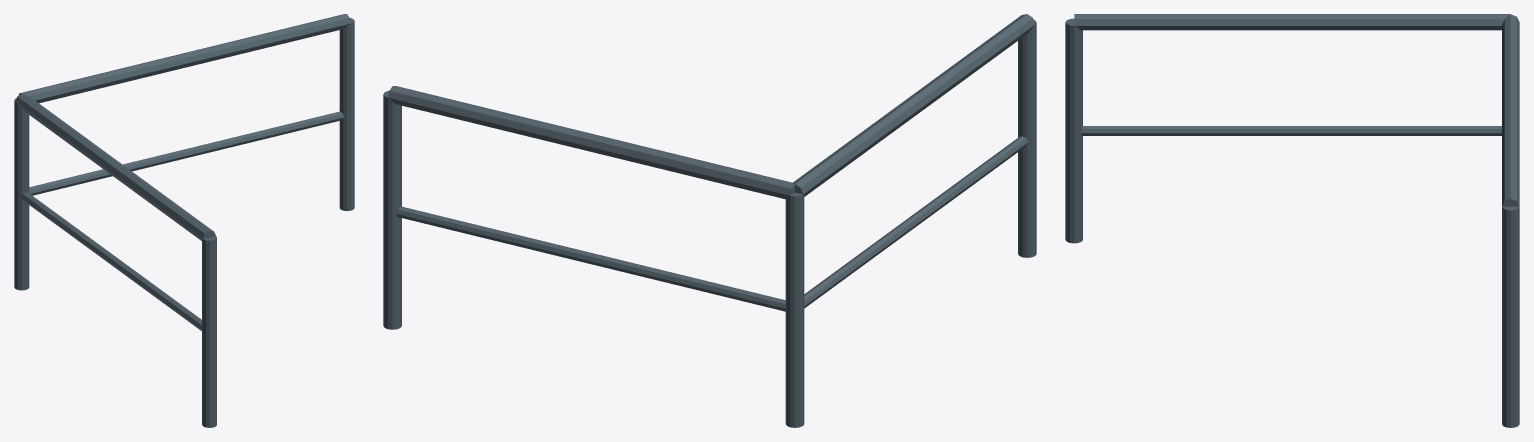
File: perimeter-corner-6f377447.glb
3 renders of one model, left to right at view 1: azimuth 30°, elevation 25°; view 2: azimuth 150°, elevation 25°; view 3: azimuth 270°, elevation 25°, orthographic. The views are drawn at different scales.
Parts seen in each view (by area): view 1: perimeter-corner; view 2: perimeter-corner; view 3: perimeter-corner.
Boxes of the visible parts, x1=… form: perimeter-corner: x1=14, y1=14, x2=354, y2=427; perimeter-corner: x1=383, y1=14, x2=1036, y2=427; perimeter-corner: x1=1065, y1=14, x2=1519, y2=427.
Size of the model in its own units: 2.08 by 1.14 by 2.08.
